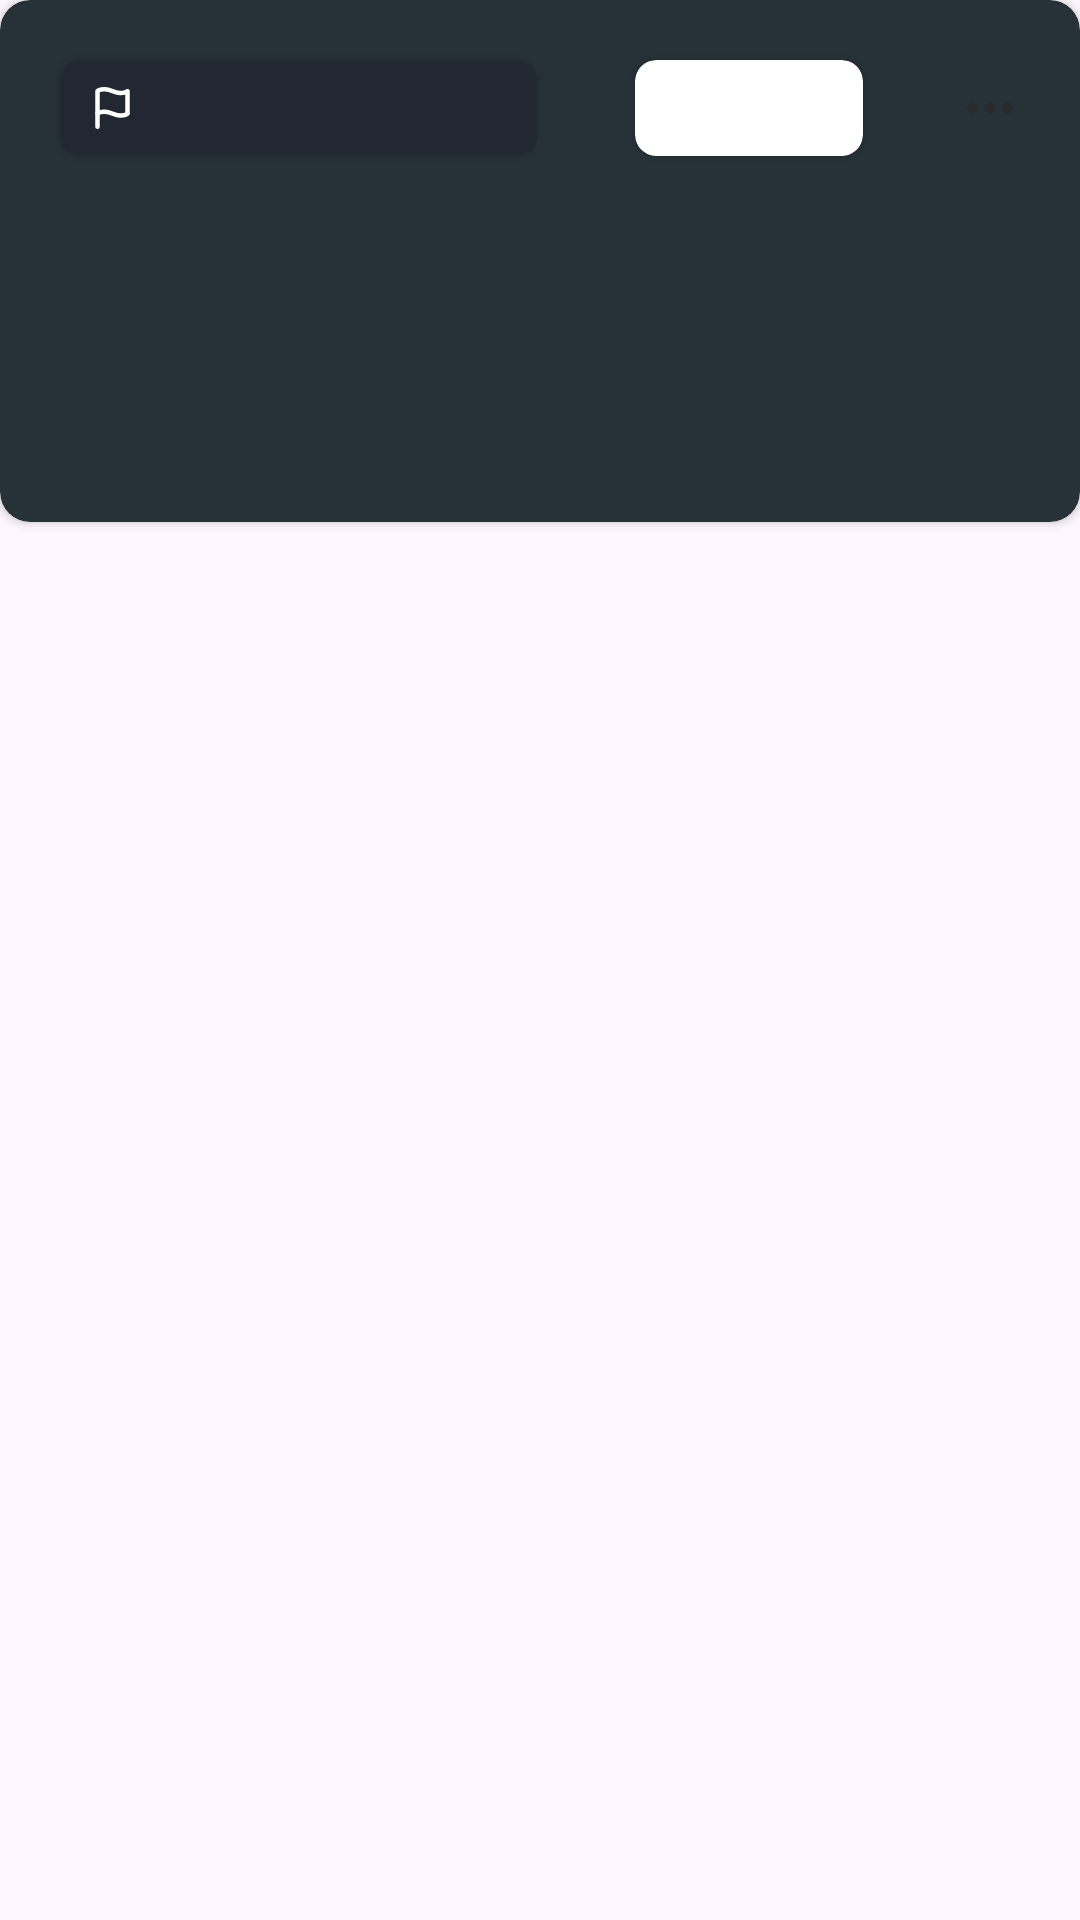

Icons on this 1080px x 1920px Android screen, each with the point to tap as (x=x, y=y):
flag: (x=112, y=108)
